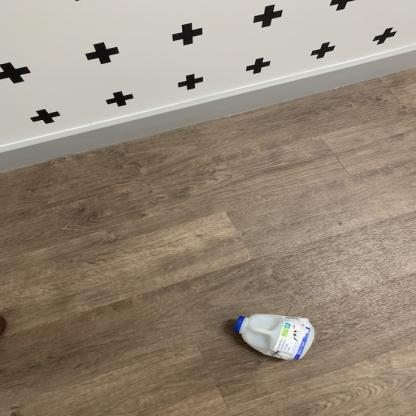trash: (226, 309, 326, 365)
